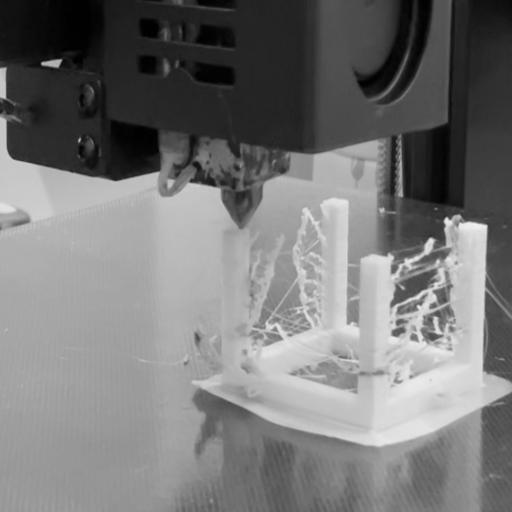spaghetti_and_stringing: (392, 252, 465, 373), (252, 215, 322, 332), (250, 316, 363, 383), (128, 334, 232, 374)
warp: (191, 376, 319, 437), (321, 419, 418, 456)
